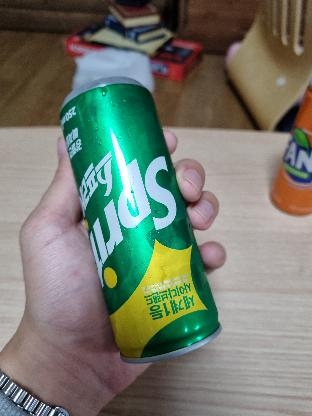Can: (56, 78, 209, 348)
